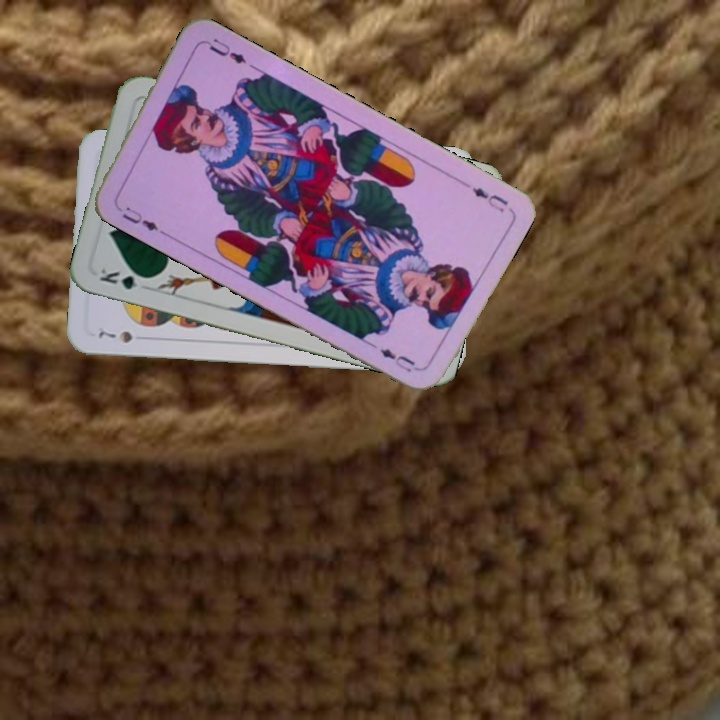EU: (118, 202, 161, 234), (468, 183, 511, 215)
GK: (95, 264, 153, 293)
S7: (94, 326, 135, 346)
